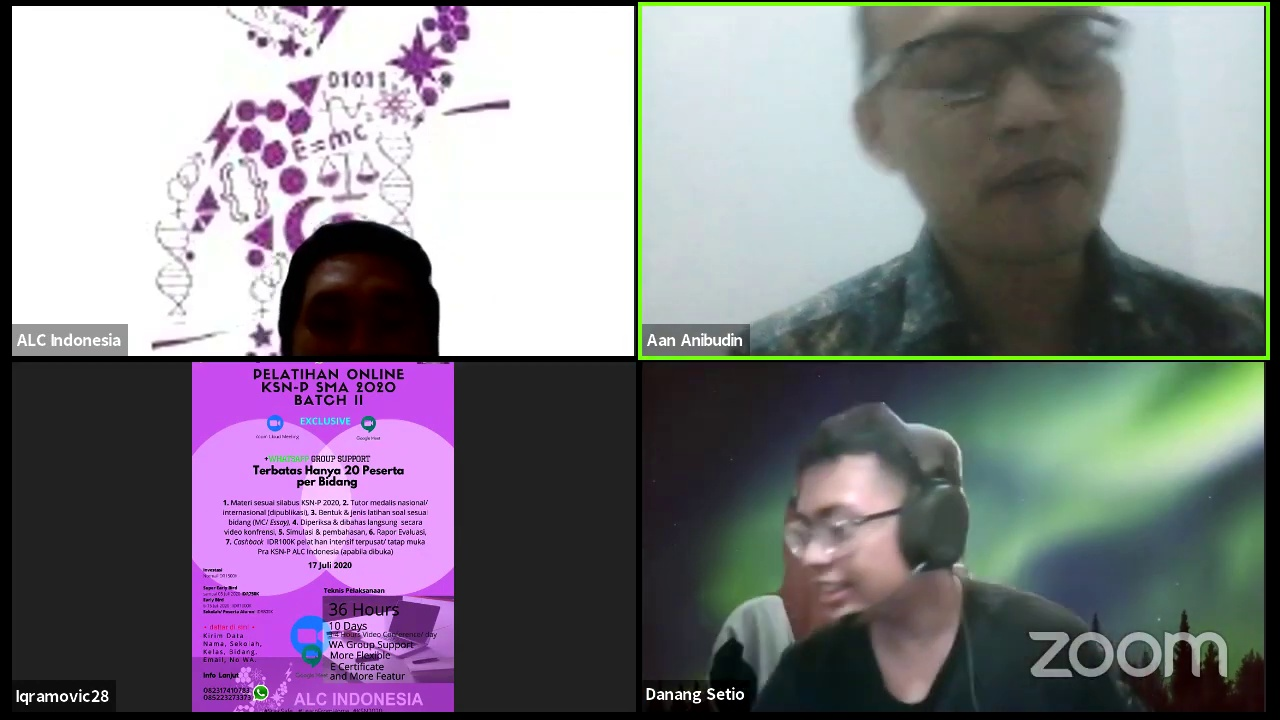Distracted: (862, 11, 1136, 269), (781, 411, 969, 617)
Not Distracted: (280, 239, 442, 356)
